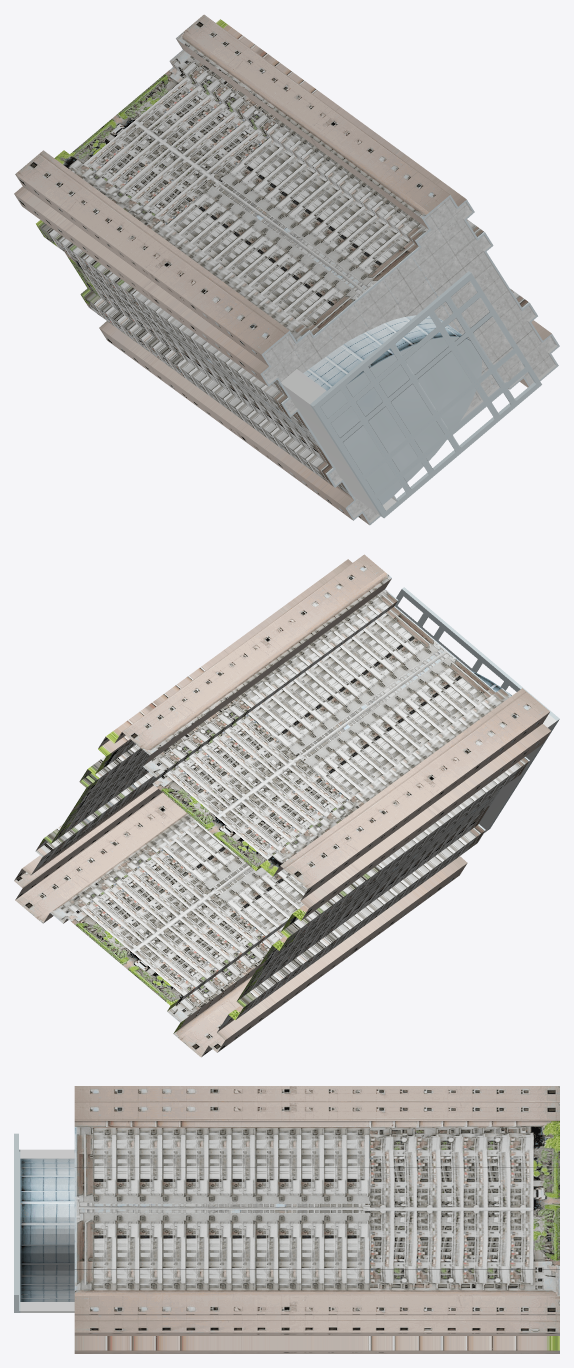
Rendered from DLF_Royalton_Tower.glb.
The picture shows the model from 3 angles, top to bottom: view 1: azimuth 30°, elevation 25°; view 2: azimuth 150°, elevation 25°; view 3: azimuth 270°, elevation 25°; orthographic projection.
Visible parts, largest first — view 1: DLF_Royalton_Tower; view 2: DLF_Royalton_Tower; view 3: DLF_Royalton_Tower.
Part boxes in pixels (x1,y1,x2,y2): DLF_Royalton_Tower: (14,14,559,525); DLF_Royalton_Tower: (14,554,559,1057); DLF_Royalton_Tower: (14,1086,559,1353).
Bounding box in the file's own units: 46.97 × 46.61 × 75.23.
Materials: 1 (1 with a texture image).
